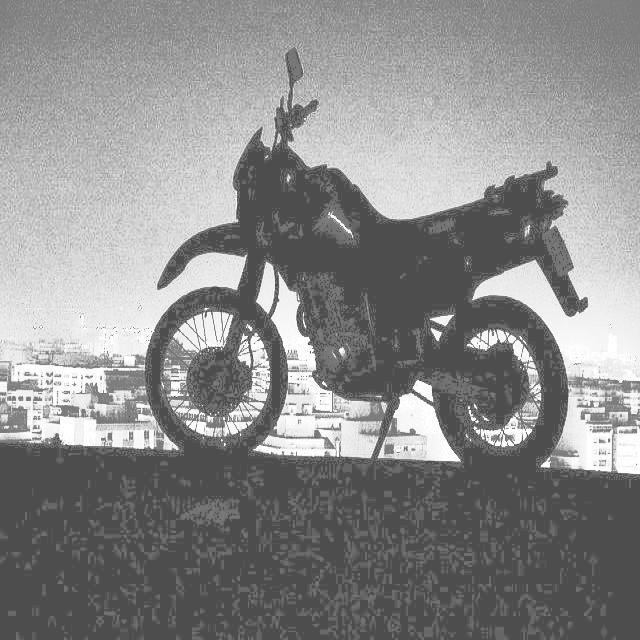Motorcycle: (144, 47, 588, 462)
